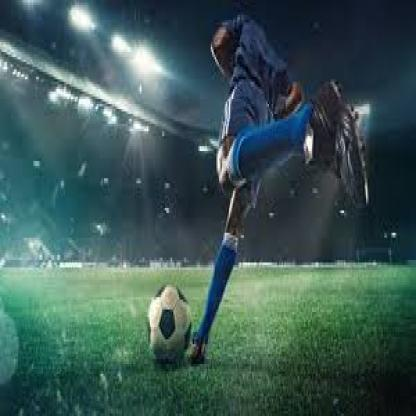ball: (146, 281, 194, 369)
